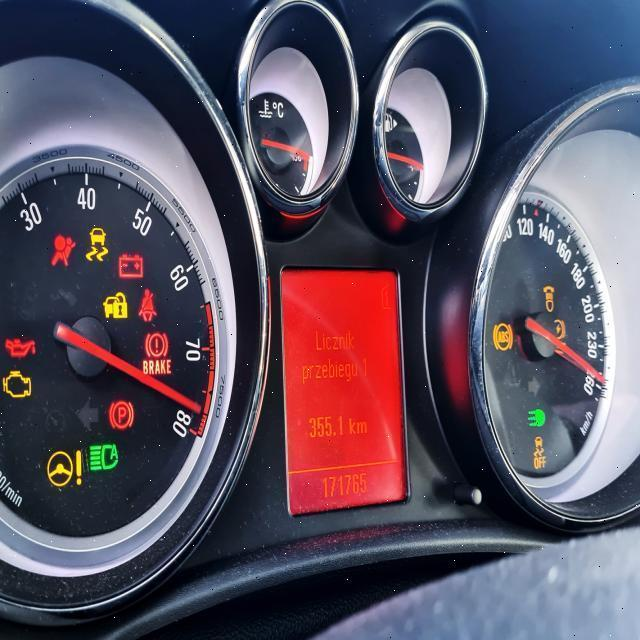Electronic Power Steering Warning: (38, 448, 86, 490)
Seat Belt: (138, 288, 158, 322)
